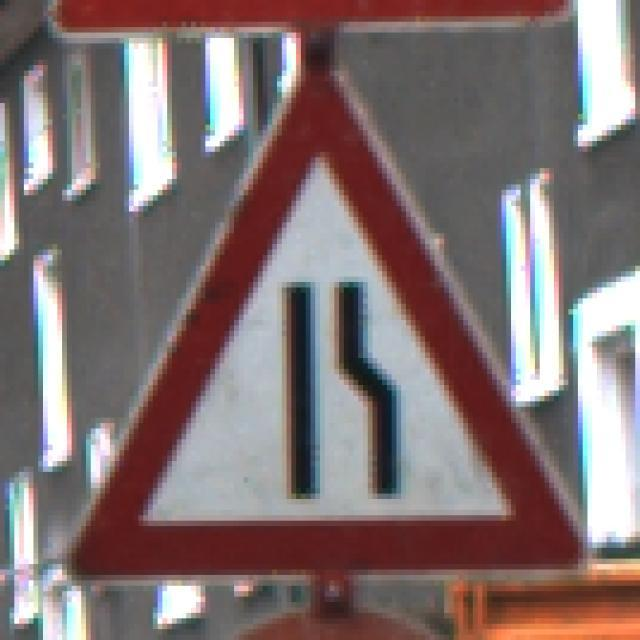narrow road ahead: (65, 61, 593, 581)
